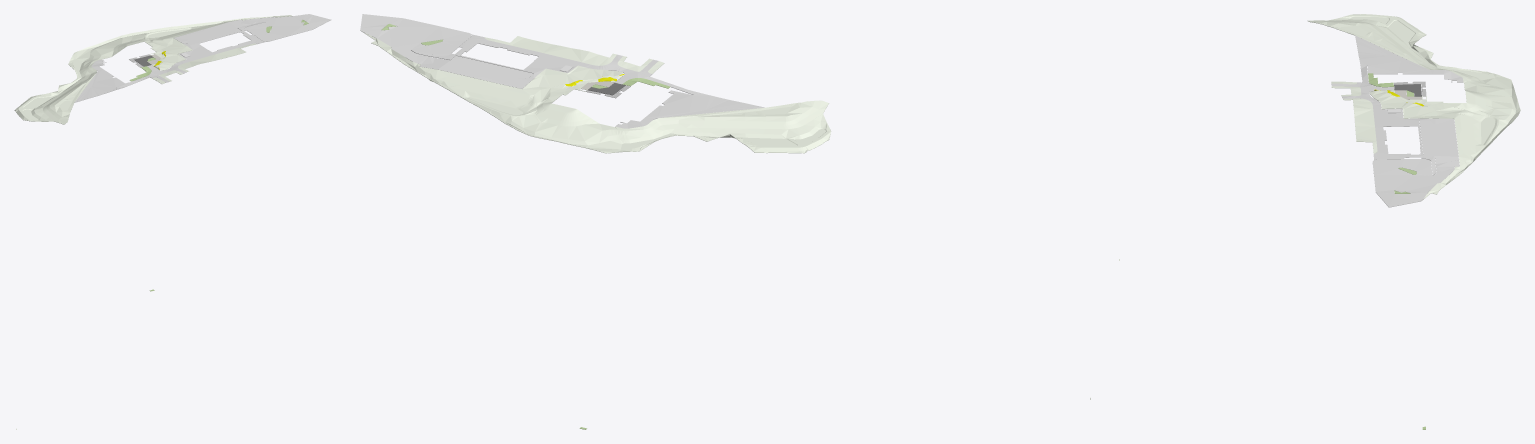
File: LARK_3D_v7.dae
3 views of the same model, side by side, from view 1: azimuth 30°, elevation 25°; view 2: azimuth 150°, elevation 25°; view 3: azimuth 270°, elevation 25° (orthographic). The views are drawn at different scales.
Visible parts, largest first — view 1: IfcBuildingElementProxy/None.279, IfcBuildingElementProxy/None.276, IfcBuildingElementProxy/None.277, IfcBuildingElementProxy/None.031; view 2: IfcBuildingElementProxy/None.279, IfcBuildingElementProxy/None.276, IfcBuildingElementProxy/None.277, IfcBuildingElementProxy/None.031; view 3: IfcBuildingElementProxy/None.279, IfcBuildingElementProxy/None.276, IfcBuildingElementProxy/None.277, IfcBuildingElementProxy/None.031.
Boxes of the visible parts, <box> form: IfcBuildingElementProxy/None.279: <box>14,15,292,124</box>; IfcBuildingElementProxy/None.276: <box>174,14,331,45</box>; IfcBuildingElementProxy/None.277: <box>74,21,265,102</box>; IfcBuildingElementProxy/None.031: <box>178,43,256,71</box>; IfcBuildingElementProxy/None.279: <box>360,30,831,153</box>; IfcBuildingElementProxy/None.276: <box>360,14,533,88</box>; IfcBuildingElementProxy/None.277: <box>411,34,764,128</box>; IfcBuildingElementProxy/None.031: <box>485,36,616,65</box>; IfcBuildingElementProxy/None.279: <box>1307,14,1520,200</box>; IfcBuildingElementProxy/None.276: <box>1372,118,1459,207</box>; IfcBuildingElementProxy/None.277: <box>1331,35,1463,175</box>; IfcBuildingElementProxy/None.031: <box>1343,98,1377,153</box>.
Bounding box in the file's own units: 323 × 195 × 180.
